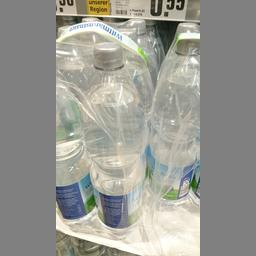water: (81, 40, 143, 235), (145, 30, 199, 212), (55, 62, 94, 228)
